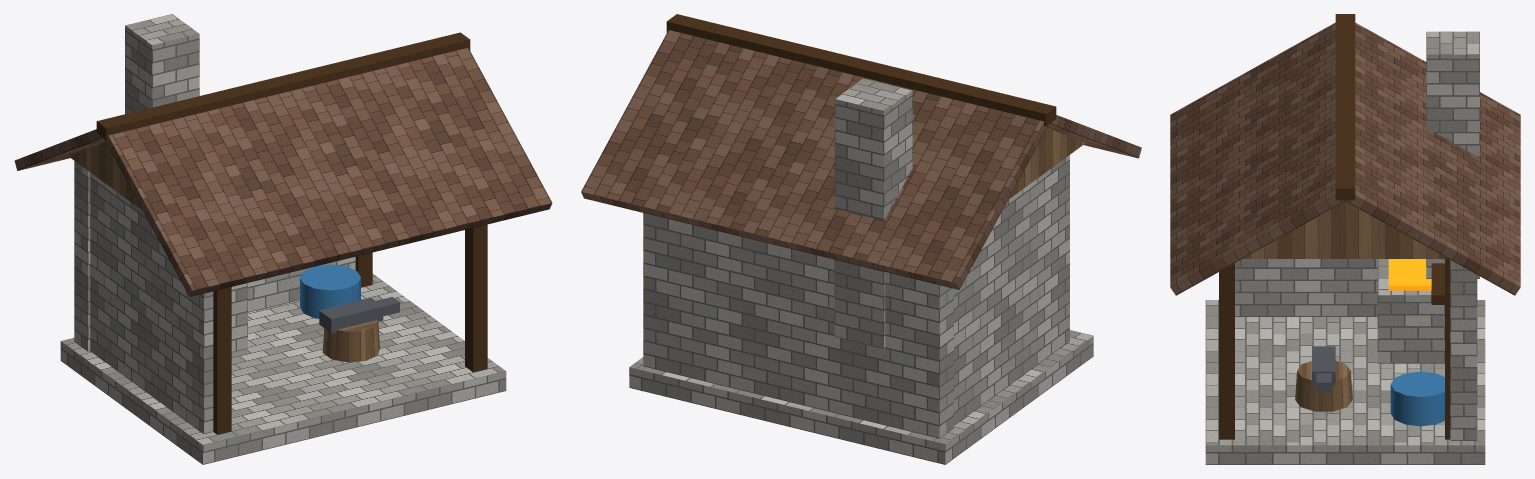
Rendered from smithy.glb.
3 views of the same model, side by side, from view 1: azimuth 30°, elevation 25°; view 2: azimuth 150°, elevation 25°; view 3: azimuth 270°, elevation 25° (orthographic). The views are drawn at different scales.
Parts seen in each view (by area): view 1: smithy; view 2: smithy; view 3: smithy.
Part boxes in pixels (x1,y1,x2,y2): smithy: (14,14,552,464); smithy: (581,14,1141,464); smithy: (1170,14,1520,464).
Bounding box in the file's own units: 3.84 × 3.25 × 3.25.
Materials: 7 (3 with a texture image).
